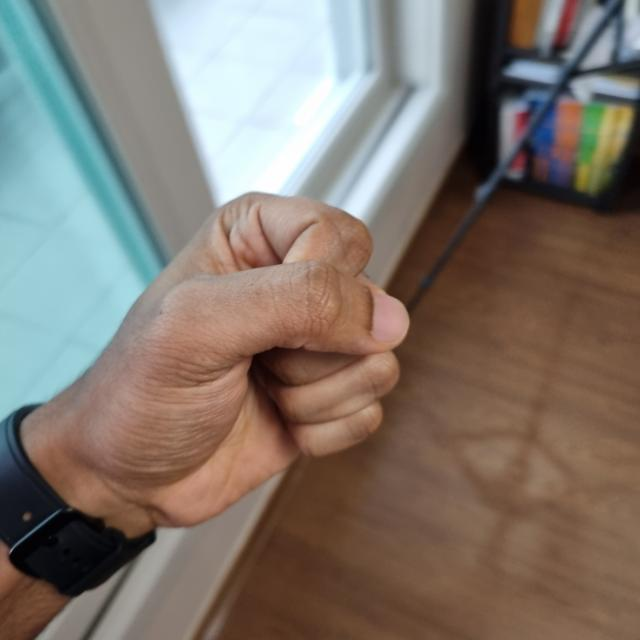Rock: (59, 196, 406, 523)
